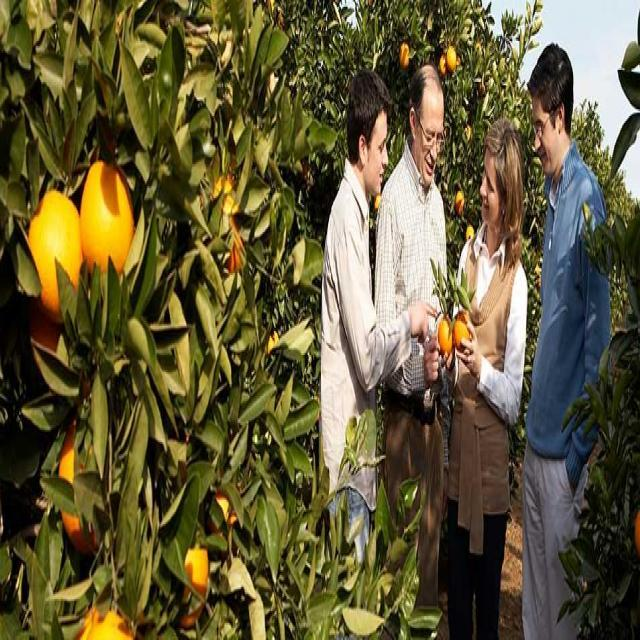Jeruk Sudah Matang: (20, 167, 90, 338), (79, 164, 134, 270), (451, 300, 473, 364), (437, 309, 454, 358), (441, 48, 460, 79), (453, 189, 466, 218)
